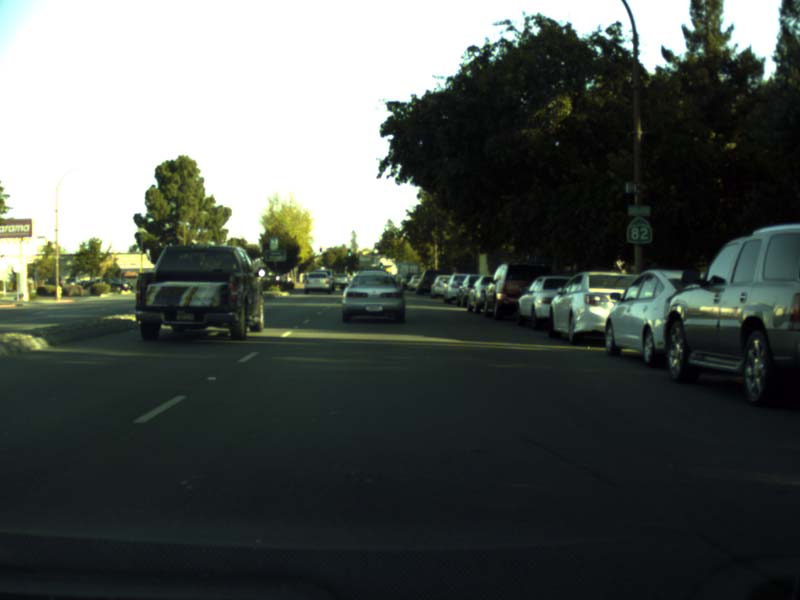Green: (347, 249, 351, 255)
